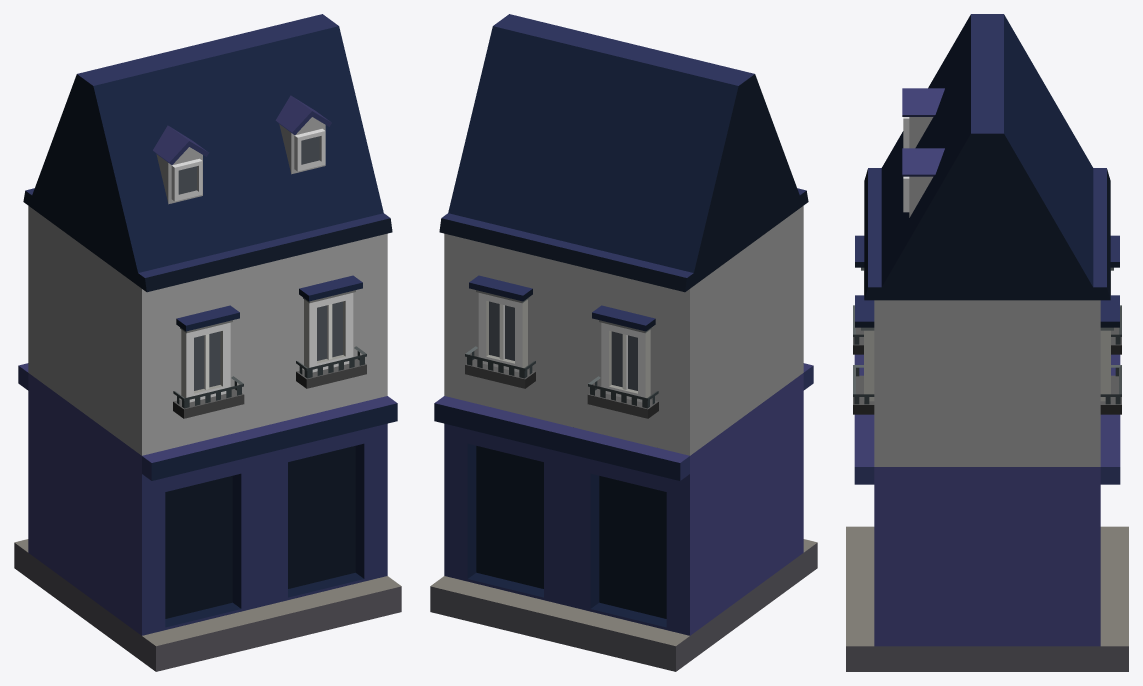
File: TB_CITY_BD_Blue_Line.FBX
3 views of the same model, side by side, from view 1: azimuth 30°, elevation 25°; view 2: azimuth 150°, elevation 25°; view 3: azimuth 270°, elevation 25° (orthographic).
Parts seen in each view (by area): view 1: TB_CITY_BD_Blue_Line; view 2: TB_CITY_BD_Blue_Line; view 3: TB_CITY_BD_Blue_Line.
Boxes of the visible parts, <box> form: TB_CITY_BD_Blue_Line: <box>14,14,401,671</box>; TB_CITY_BD_Blue_Line: <box>430,14,817,671</box>; TB_CITY_BD_Blue_Line: <box>846,14,1128,671</box>.
Size of the model in its own units: 7.99 by 16.78 by 7.99.
